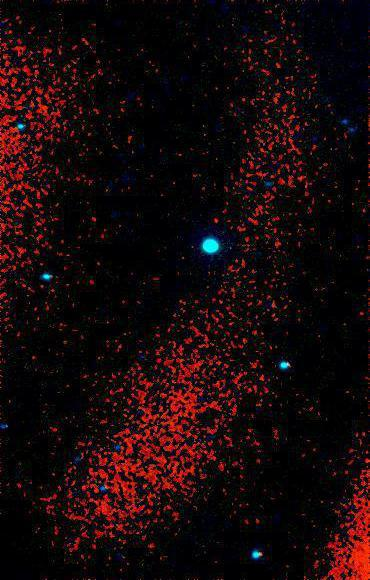star: (200, 205, 230, 235)
